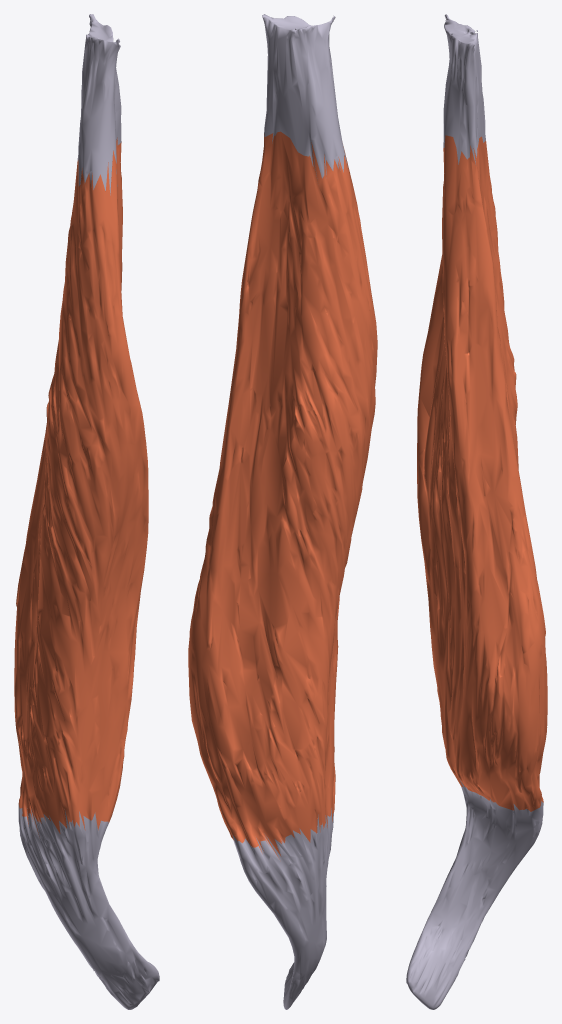
The model's file is Semimembranosus_left.glb.
3 views of the same model, side by side, from view 1: azimuth 90°, elevation 25°; view 2: azimuth 150°, elevation 25°; view 3: azimuth 270°, elevation 25° (orthographic). The views are drawn at different scales.
Parts seen in each view (by area): view 1: Semimembranosus_muscle.l_Generated_Mesh_From_X3D.229; view 2: Semimembranosus_muscle.l_Generated_Mesh_From_X3D.229; view 3: Semimembranosus_muscle.l_Generated_Mesh_From_X3D.229.
Part boxes in pixels (x1,y1,x2,y2): Semimembranosus_muscle.l_Generated_Mesh_From_X3D.229: (14, 14, 159, 1009); Semimembranosus_muscle.l_Generated_Mesh_From_X3D.229: (188, 14, 377, 1009); Semimembranosus_muscle.l_Generated_Mesh_From_X3D.229: (406, 14, 547, 1009).
Bounding box in the file's own units: 0.0637 × 0.4177 × 0.0552.
